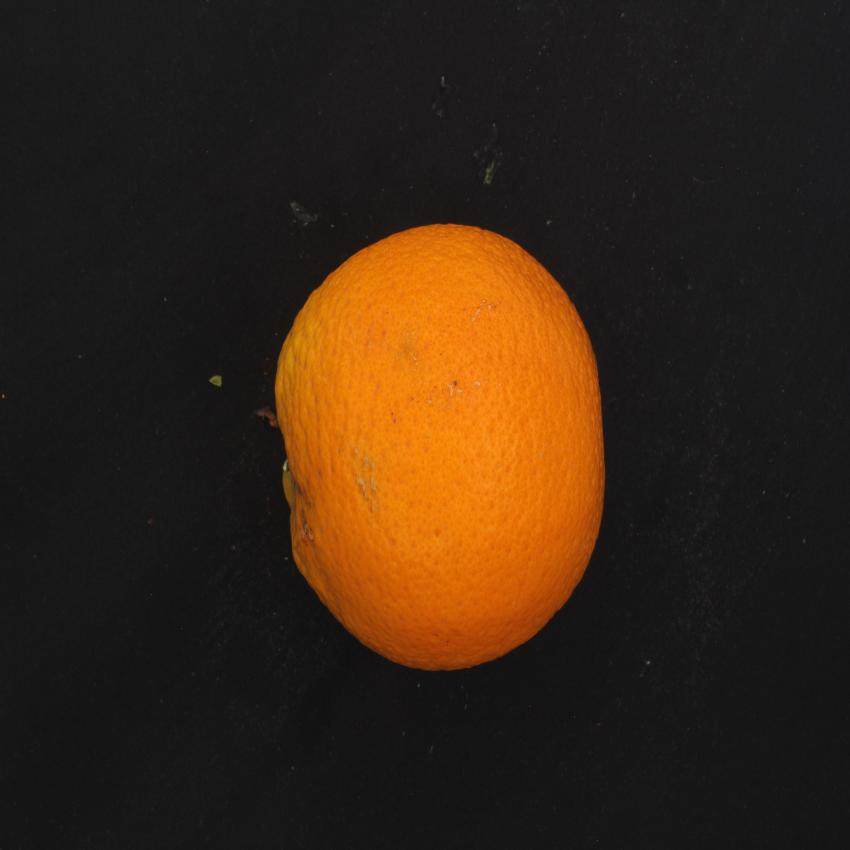Buen estado: (249, 214, 612, 685)
